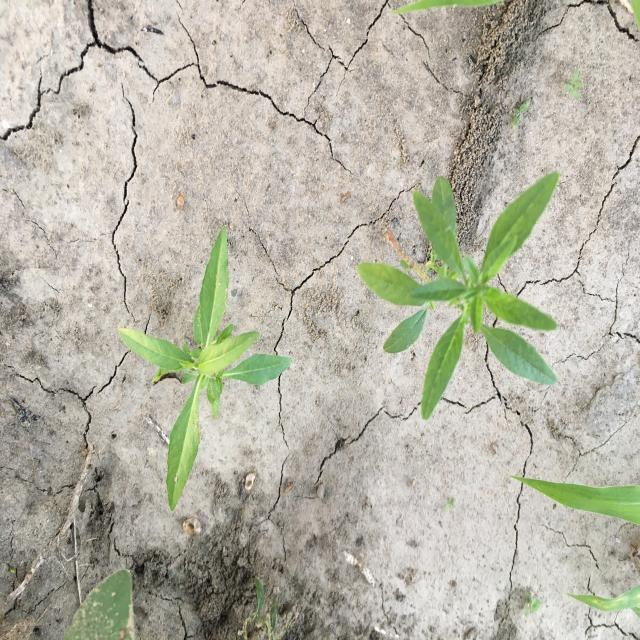Eclipta: (117, 224, 293, 513)
Waterhemp: (356, 170, 560, 421)
